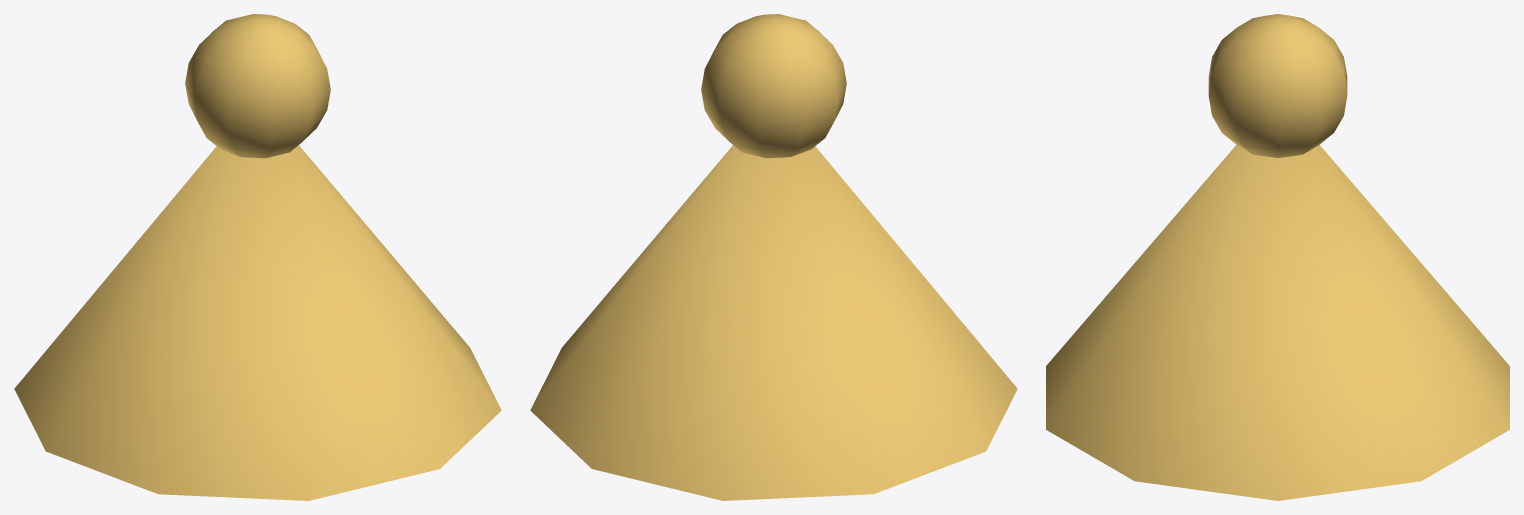
The model's file is Spotlight_Mesh.fbx.
The picture shows the model from 3 angles, left to right: view 1: azimuth 30°, elevation 25°; view 2: azimuth 150°, elevation 25°; view 3: azimuth 270°, elevation 25°; orthographic projection.
Visible parts, largest first — view 1: Spotlight_Mesh; view 2: Spotlight_Mesh; view 3: Spotlight_Mesh.
Boxes of the visible parts, x1,y1,x2,y2 form: Spotlight_Mesh: (14,14,501,500); Spotlight_Mesh: (530,14,1017,500); Spotlight_Mesh: (1046,14,1509,500).
Bounding box in the file's own units: 781 × 668 × 743.
